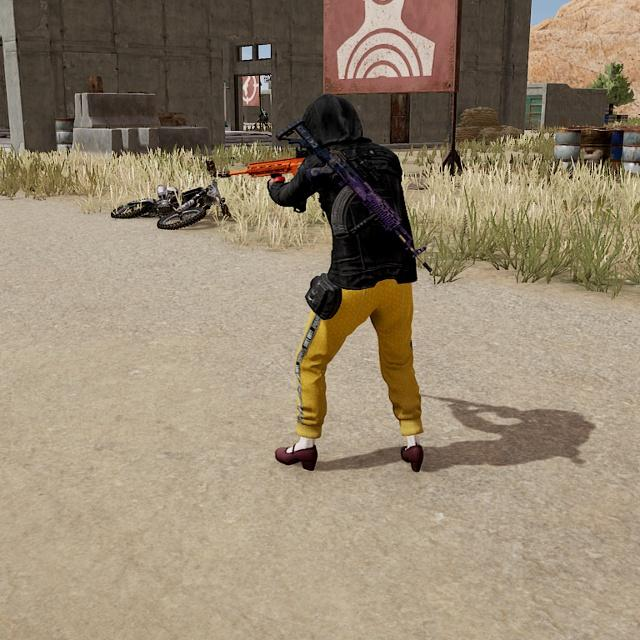head: (297, 93, 366, 157)
people: (266, 93, 426, 474)
